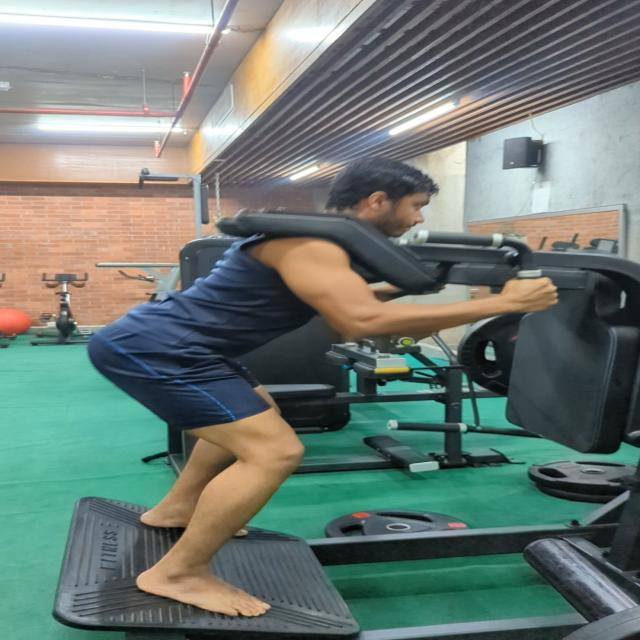Normal_SquatsWithBarbell: (92, 153, 592, 640)
